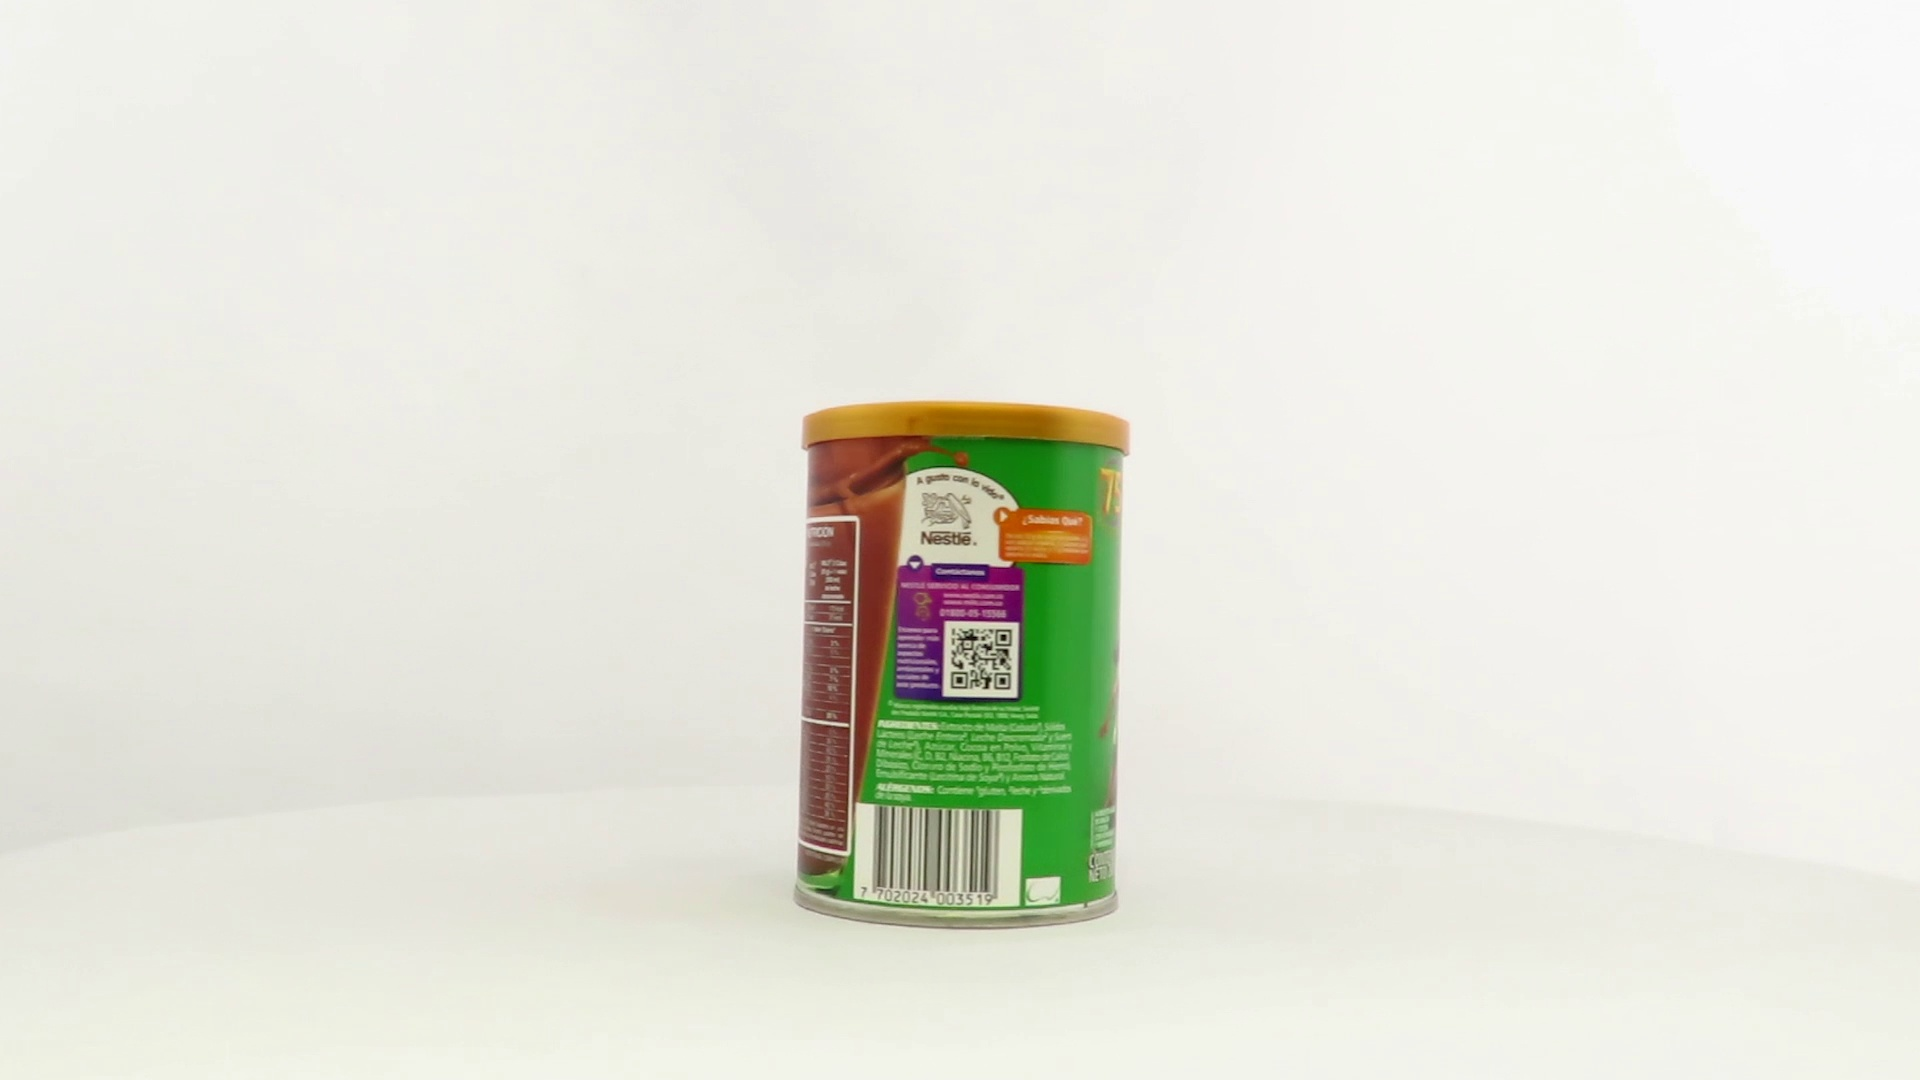COL0170203LAT20000: (789, 396, 1135, 936)
